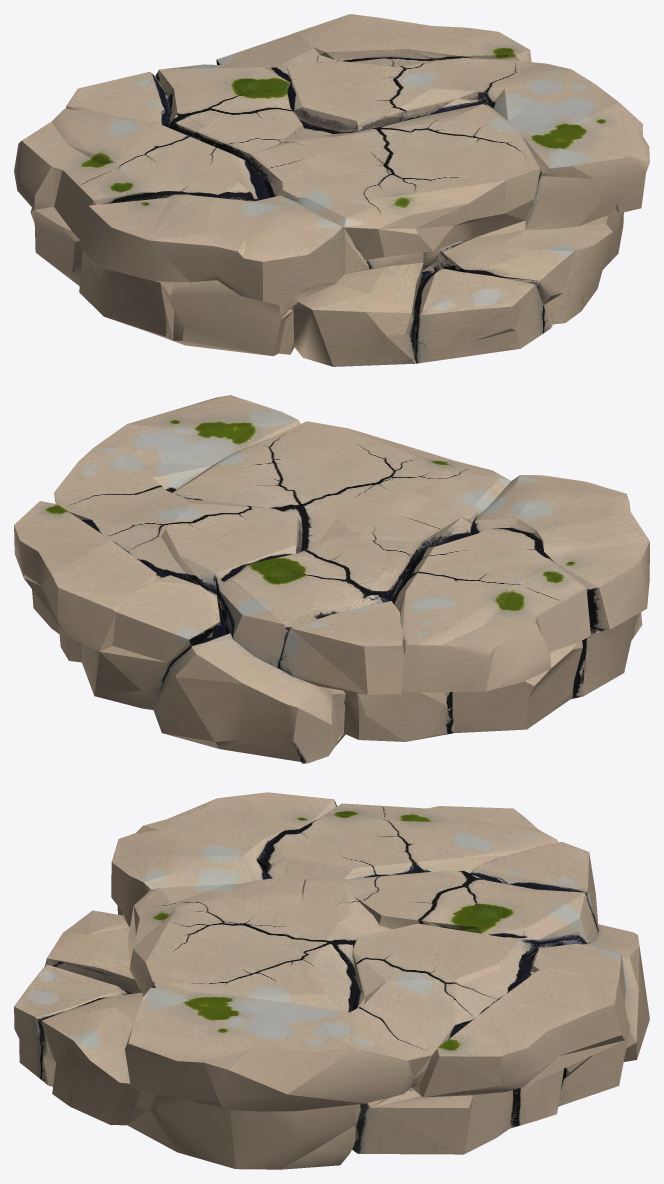
The model's file is FlatRock.glb.
3 views of the same model, one above another, from view 1: azimuth 30°, elevation 25°; view 2: azimuth 150°, elevation 25°; view 3: azimuth 270°, elevation 25° (orthographic). The views are drawn at different scales.
Size of the model in its own units: 1.2 by 0.2506 by 1.16.
1 material, 1 textured.
